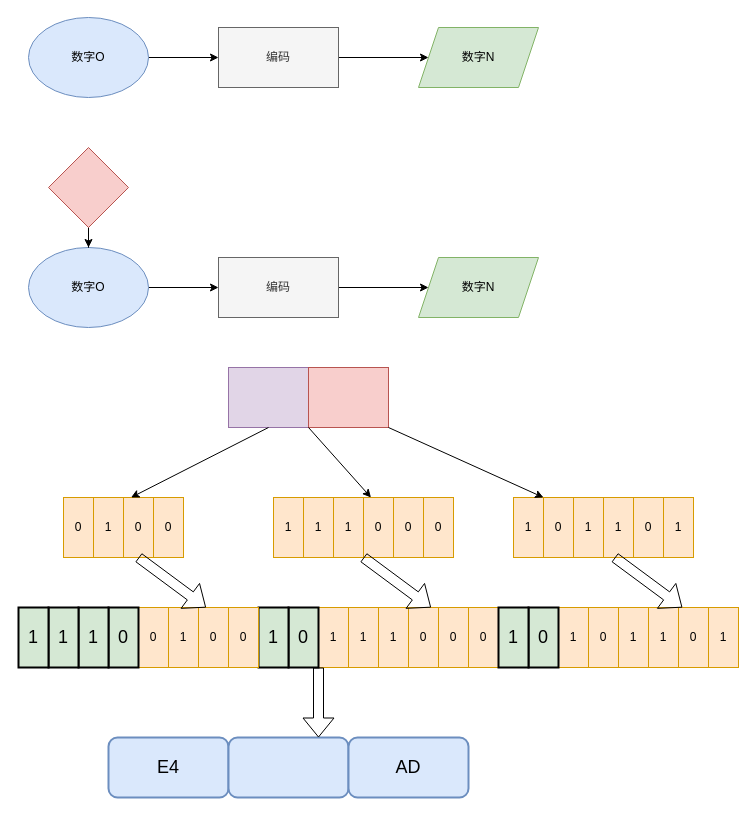
Some shapes in this 756 by 816 pixel diagram are drawn without their labels. Here are the shapes that lost their labels. From the top down, the centre of each, then its label:
pixel 88 187: 字符
pixel 268 397: 4E
pixel 348 397: 2D
pixel 288 767: B8
